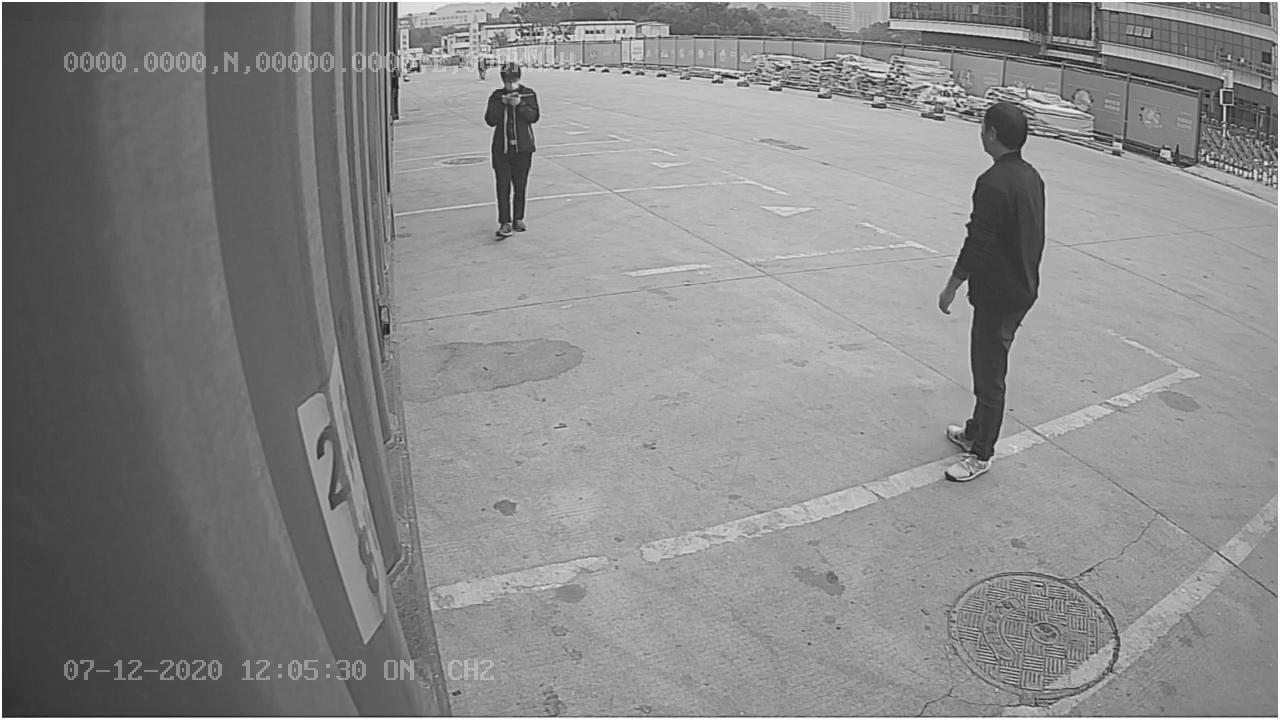person: (930, 98, 1058, 484)
